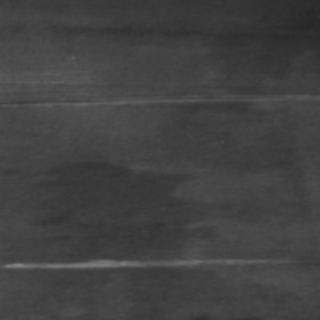scratches: (2, 250, 286, 272)
